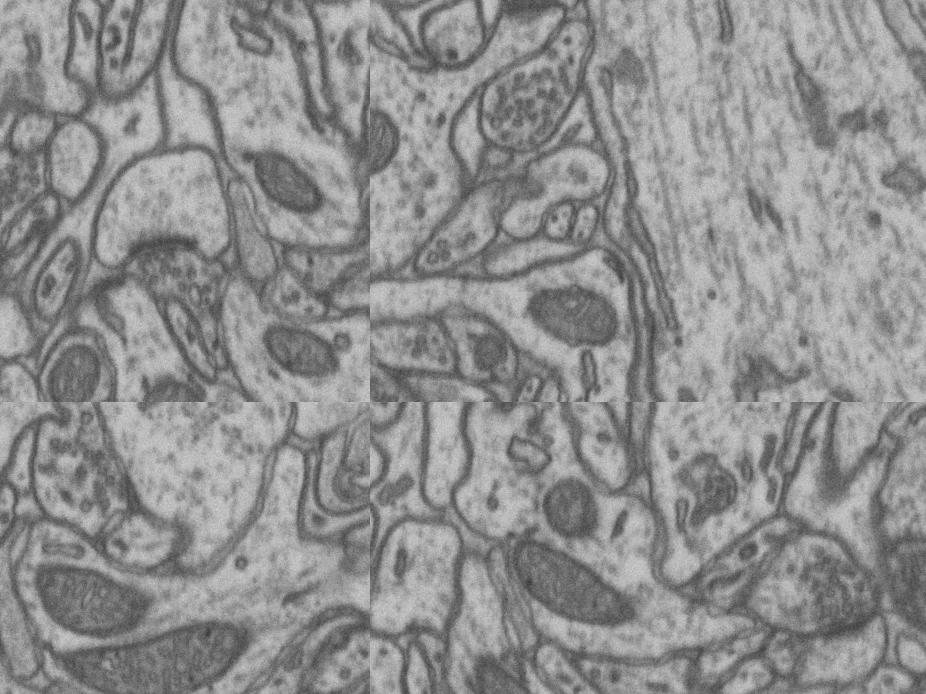mitochondria: (494, 512, 648, 656), (63, 608, 259, 694), (32, 548, 156, 656), (526, 258, 640, 374), (236, 130, 335, 236), (252, 308, 348, 402), (528, 466, 611, 549), (29, 329, 118, 402), (446, 312, 528, 384), (370, 82, 419, 197), (900, 93, 926, 291), (122, 356, 232, 402), (459, 642, 551, 694), (660, 680, 730, 694)
